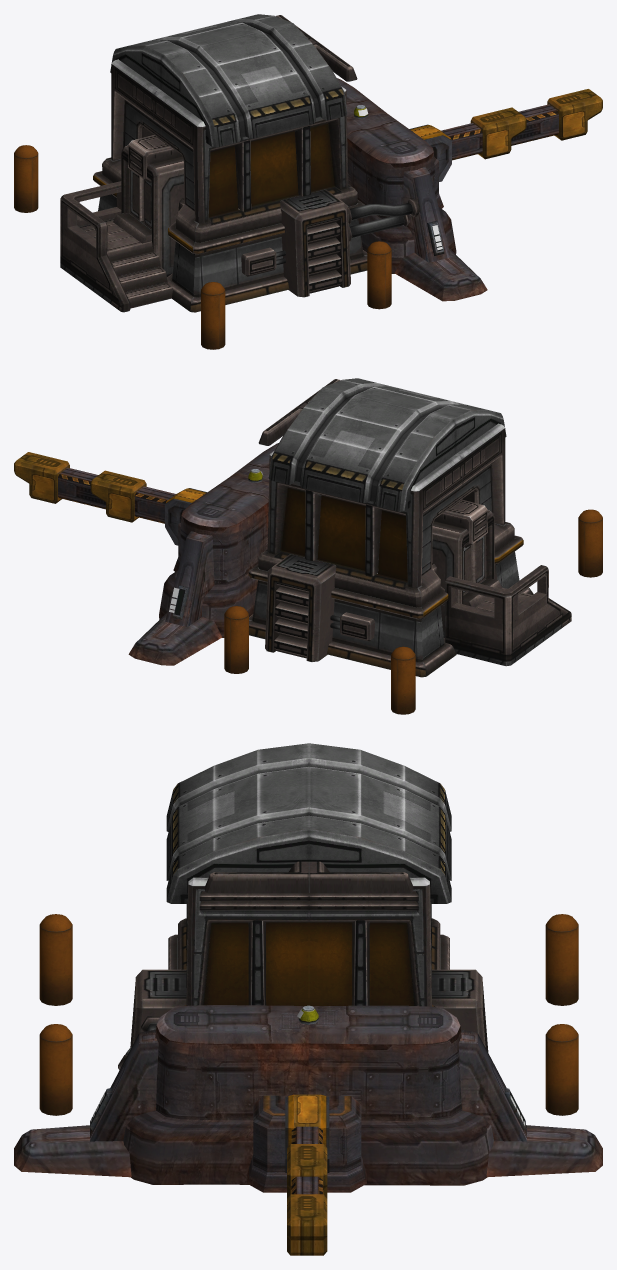
The model's file is checkpoint.fbx.
The picture shows the model from 3 angles, top to bottom: view 1: azimuth 30°, elevation 25°; view 2: azimuth 150°, elevation 25°; view 3: azimuth 270°, elevation 25°; orthographic projection. The views are drawn at different scales.
Visible parts, largest first — view 1: Geoset_0, Geoset_3; view 2: Geoset_0, Geoset_3, Geoset_1; view 3: Geoset_0, Geoset_3, Geoset_1.
Part boxes in pixels (x1=…): Geoset_0: x1=14, y1=14, x2=419, y2=349; Geoset_3: x1=337, y1=78, x2=602, y2=301; Geoset_0: x1=224, y1=378, x2=602, y2=714; Geoset_3: x1=14, y1=443, x2=278, y2=665; Geoset_1: x1=172, y1=469, x2=262, y2=619; Geoset_0: x1=39, y1=743, x2=578, y2=1115; Geoset_3: x1=14, y1=1005, x2=602, y2=1255; Geoset_1: x1=90, y1=1005, x2=525, y2=1131.
Bounding box in the file's own units: 7.12 × 2.84 × 5.23.
3 materials, 3 textured.
